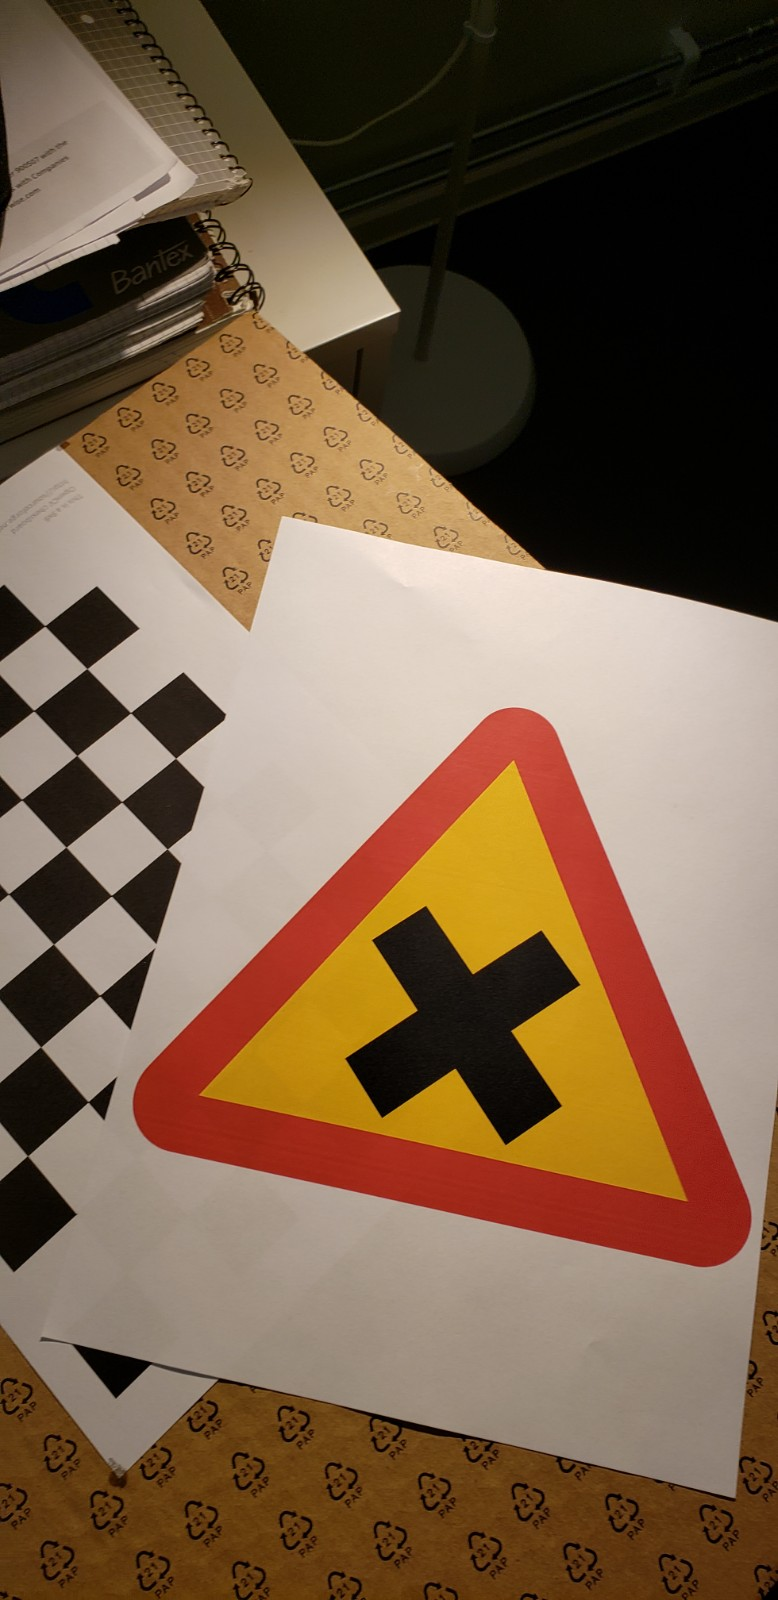junction: (79, 616, 778, 1228)
